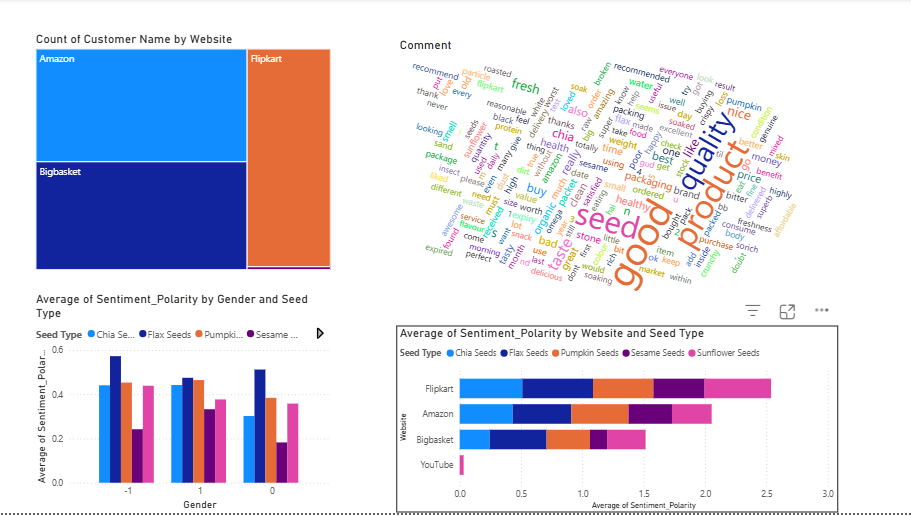

The page's visual inventory and layout, read from the dashboard file:
{"tool":"powerbi","page":{"name":"Page 2","canvas":[1280,720],"ordinal":1},"visuals":[{"type":"treemap","fields":{"Values":["CountNonNull(seeds_with_sentiment_BA.Customer Name)"],"Group":["seeds_with_sentiment_BA.Website"]},"box":[45.3,46.7,421.3,337.6],"z":0},{"type":"WordCloud1447959067750","fields":{"Category":["seeds_with_sentiment_BA.Comment"]},"box":[553,56.3,616.1,400.7],"z":1000},{"type":"clusteredColumnChart","fields":{"Category":["seeds_with_sentiment_BA.Gender"],"Y":["Avg(seeds_with_sentiment_BA.Sentiment_Polarity)"],"Series":["seeds_with_sentiment_BA.Seed Type"]},"box":[45,409.5,421,310.5],"z":2000},{"type":"barChart","fields":{"Category":["seeds_with_sentiment_BA.Website"],"Series":["seeds_with_sentiment_BA.Seed Type"],"Y":["Avg(seeds_with_sentiment_BA.Sentiment_Polarity)"]},"box":[553,457,616,263],"z":3000}]}

Visuals, with their boxes in screenshot pixels (x1, y1, x2, y2), scaled from the page's 1280x720 canvas onto the 911x516 screenshot:
treemap - CountNonNull(seeds_with_sentiment_BA.Customer Name) x seeds_with_sentiment_BA.Website: 32 33 332 275
WordCloud1447959067750 - seeds_with_sentiment_BA.Comment: 394 40 832 328
clusteredColumnChart - seeds_with_sentiment_BA.Gender x Avg(seeds_with_sentiment_BA.Sentiment_Polarity): 32 293 332 515
barChart - seeds_with_sentiment_BA.Website x seeds_with_sentiment_BA.Seed Type: 394 328 832 515
